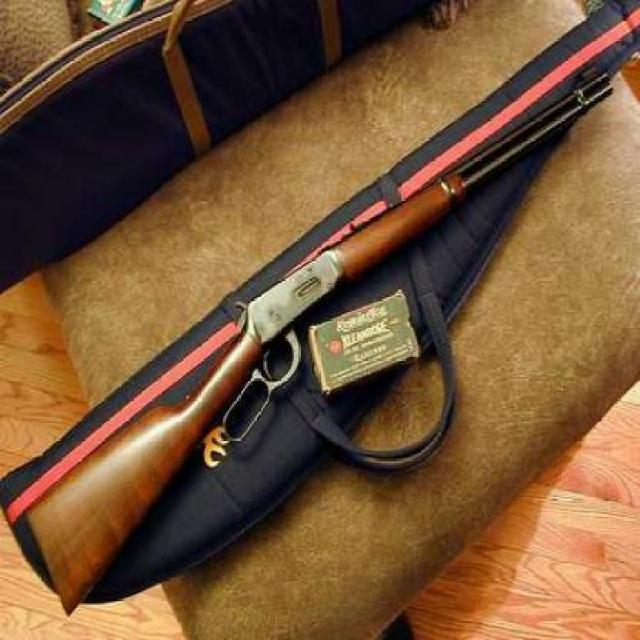weapon: (20, 65, 615, 618)
